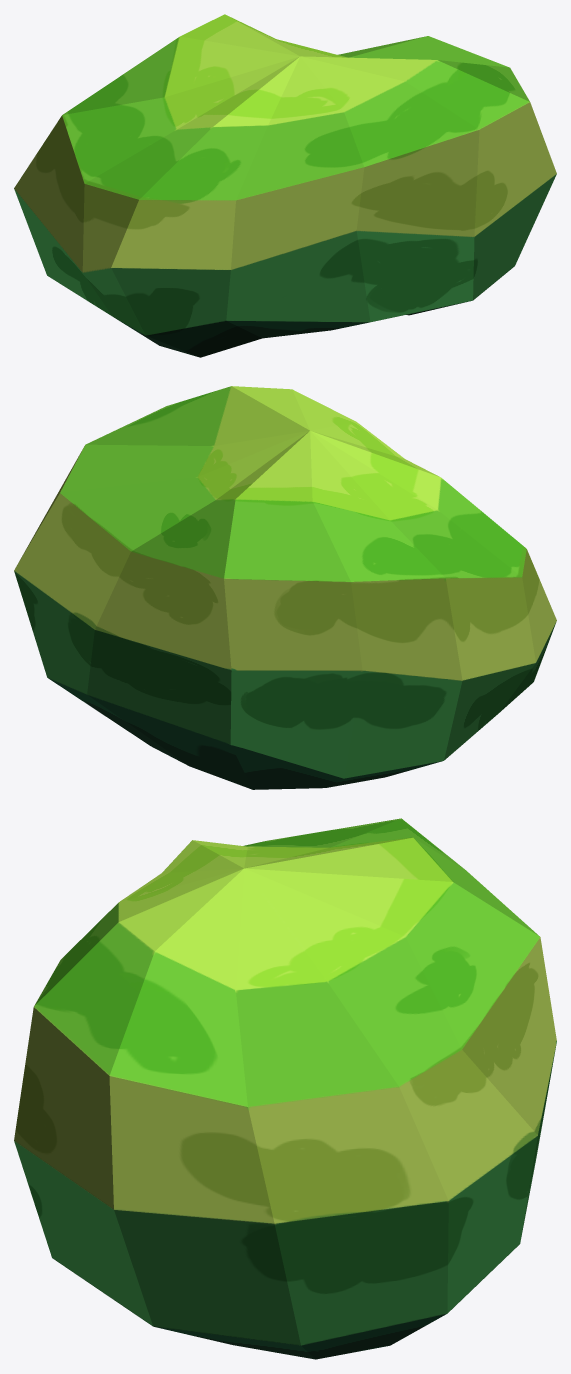
Rendered from bush FBX.FBX.
The picture shows the model from 3 angles, top to bottom: view 1: azimuth 30°, elevation 25°; view 2: azimuth 150°, elevation 25°; view 3: azimuth 270°, elevation 25°; orthographic projection. The views are drawn at different scales.
Parts seen in each view (by area): view 1: Sphere001; view 2: Sphere001; view 3: Sphere001.
Part boxes in pixels (<box>): Sphere001: <box>14,14,556,357</box>; Sphere001: <box>14,386,556,789</box>; Sphere001: <box>14,818,556,1359</box>.
Size of the model in its own units: 29.69 by 17.99 by 21.7.
1 material, 1 textured.
